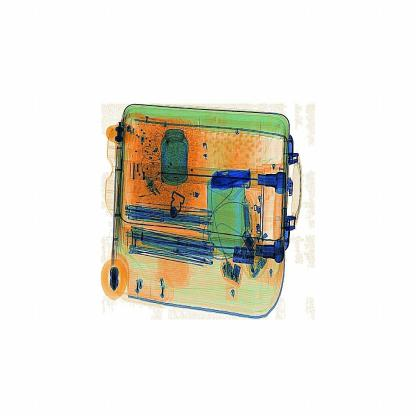knife: (209, 167, 264, 194)
